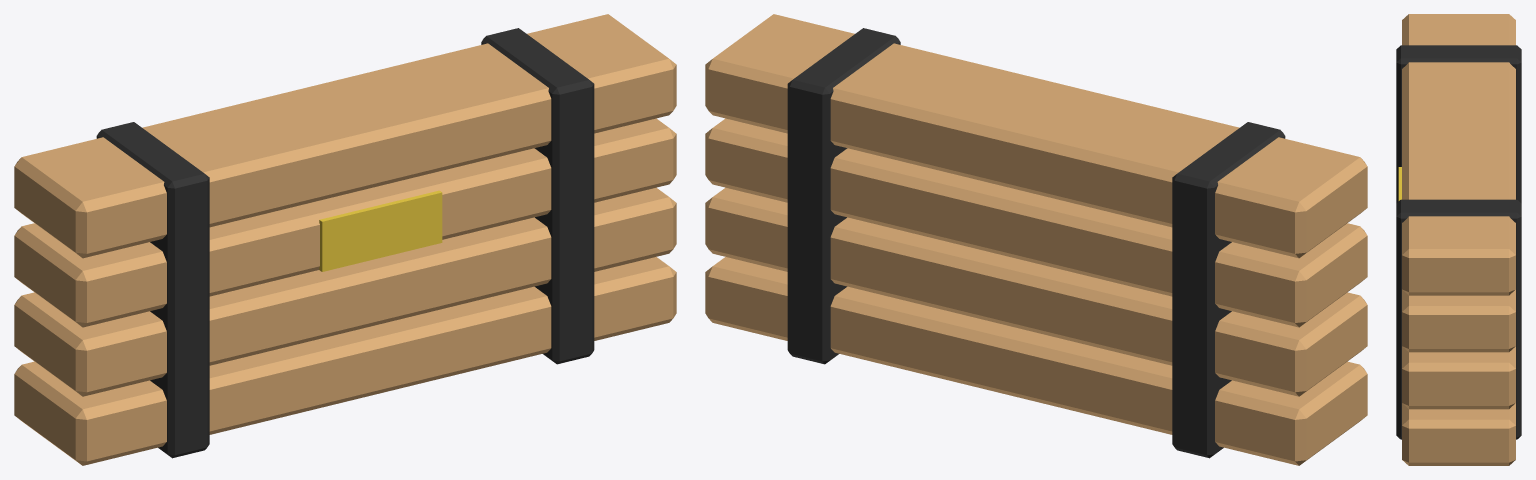
The model's file is salvage_busbar.glb.
3 views of the same model, side by side, from view 1: azimuth 30°, elevation 25°; view 2: azimuth 150°, elevation 25°; view 3: azimuth 270°, elevation 25° (orthographic). The views are drawn at different scales.
Visible parts, largest first — view 1: salvage_busbar; view 2: salvage_busbar; view 3: salvage_busbar.
Part boxes in pixels (<box>): salvage_busbar: <box>14,14,676,465</box>; salvage_busbar: <box>705,14,1367,465</box>; salvage_busbar: <box>1396,14,1521,465</box>.
Size of the model in its own units: 0.5 by 0.22 by 0.11.
